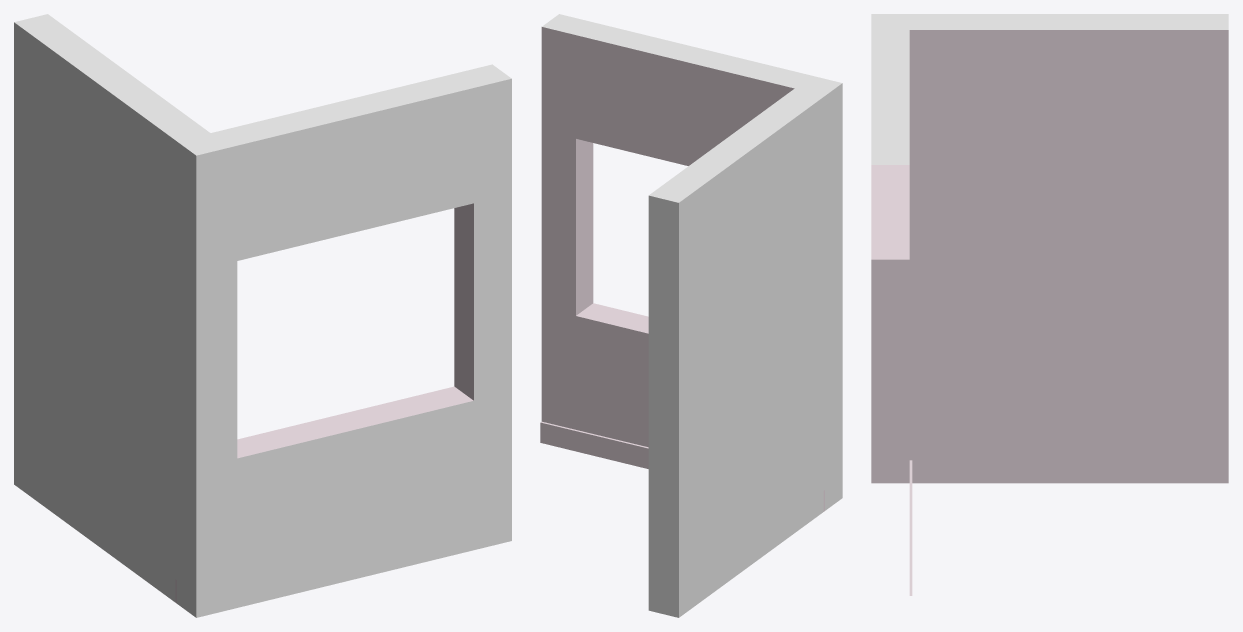
The model's file is env_wall_window_2m_final_exterior.fbx.
3 views of the same model, side by side, from view 1: azimuth 30°, elevation 25°; view 2: azimuth 150°, elevation 25°; view 3: azimuth 270°, elevation 25° (orthographic). The views are drawn at different scales.
Visible parts, largest first — view 1: Casa pared ventana 2m externa final; view 2: Casa pared ventana 2m externa final; view 3: Casa pared ventana 2m externa final.
Part boxes in pixels (box(x1,y1,x2,y2)): Casa pared ventana 2m externa final: box(14, 14, 511, 617); Casa pared ventana 2m externa final: box(540, 14, 842, 617); Casa pared ventana 2m externa final: box(871, 14, 1228, 595).
Bounding box in the file's own units: 200 × 280 × 200.
2 materials, 2 textured.
